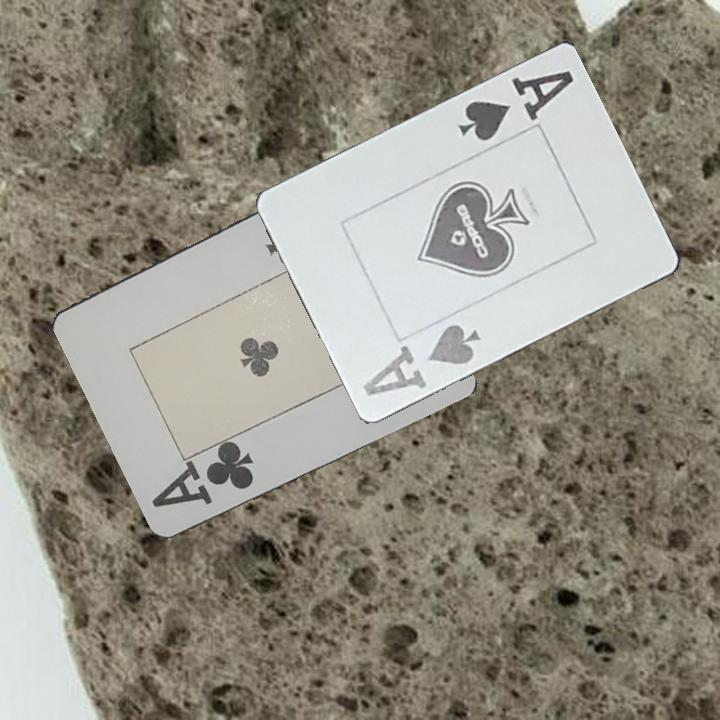Ac: (148, 439, 258, 510)
As: (359, 320, 485, 399), (453, 66, 577, 144)
